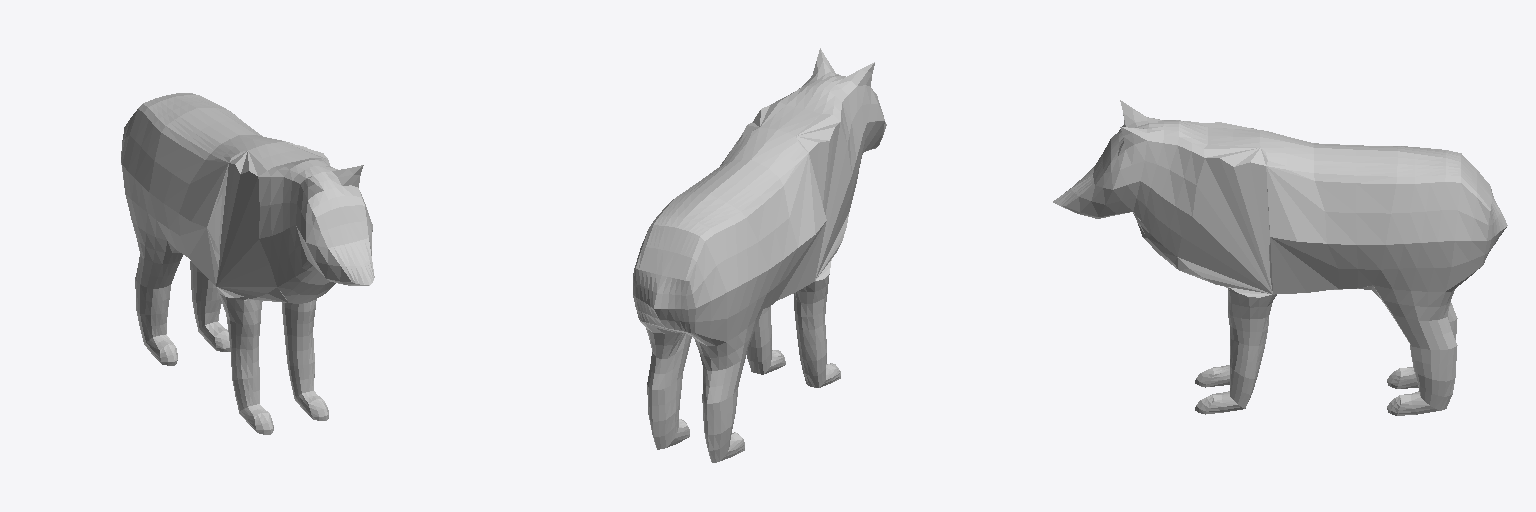
The model's file is piesblend_000039.obj.
The picture shows the model from 3 angles: view 1: azimuth 30°, elevation 25°; view 2: azimuth 150°, elevation 25°; view 3: azimuth 270°, elevation 25°; orthographic projection.
Parts seen in each view (by area): view 1: Cube; view 2: Cube; view 3: Cube.
Boxes of the visible parts, <box> form: Cube: <box>121,93,374,434</box>; Cube: <box>633,48,886,462</box>; Cube: <box>1053,100,1507,415</box>.
Bounding box in the file's own units: 2.55 × 6.18 × 8.94.